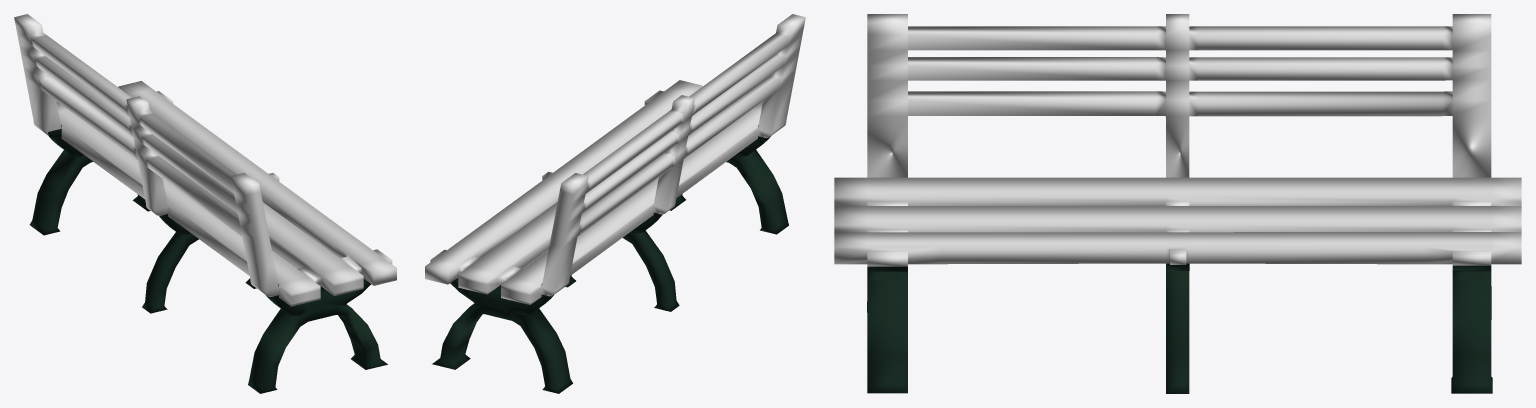
Rendered from Bench.fbx.
3 renders of one model, left to right at view 1: azimuth 30°, elevation 25°; view 2: azimuth 150°, elevation 25°; view 3: azimuth 270°, elevation 25°, orthographic. The views are drawn at different scales.
Parts seen in each view (by area): view 1: Cube; view 2: Cube; view 3: Cube.
Boxes of the visible parts, <box> form: Cube: <box>14,14,396,393</box>; Cube: <box>425,14,805,393</box>; Cube: <box>834,14,1521,393</box>.
Size of the model in its own units: 132 by 183 by 399.
